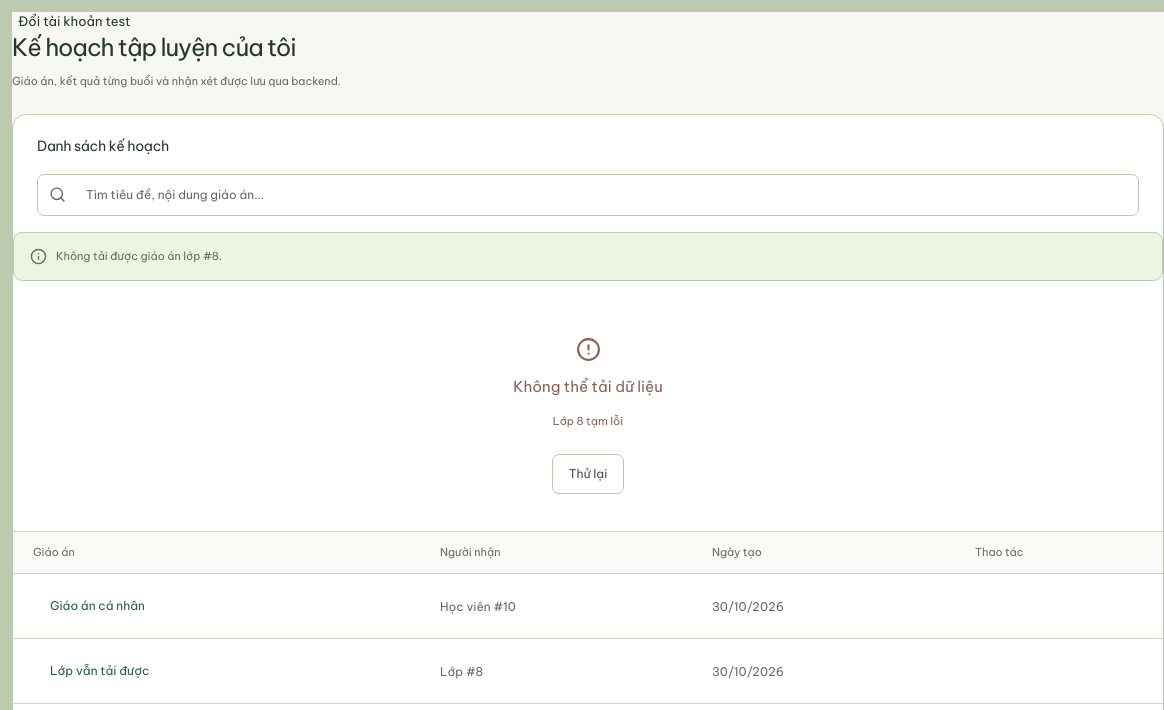
Test: Tập luyện — phạm vi thành viên và đổi HLV, chỉ mock API › keeps personal and successful class plans on one class error, and retries that class
Expected: the text "Lớp 8 tạm lỗi" is shown, [553, 412, 623, 431]
Expected: the button "Lớp vẫn tải được" is shown, [33, 651, 166, 691]
Step 1. Click the button "Thử lại" → (588, 474), box [552, 454, 624, 494]
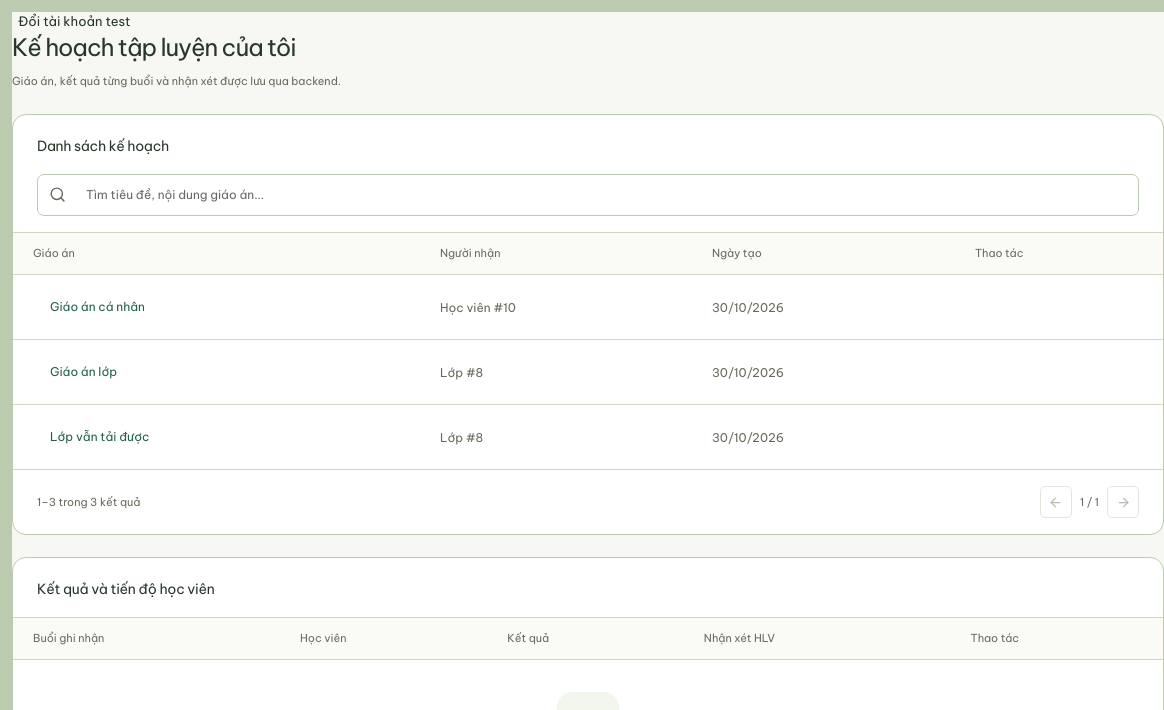
Now the button "Giáo án lớp" is shown, box [33, 352, 134, 392]
